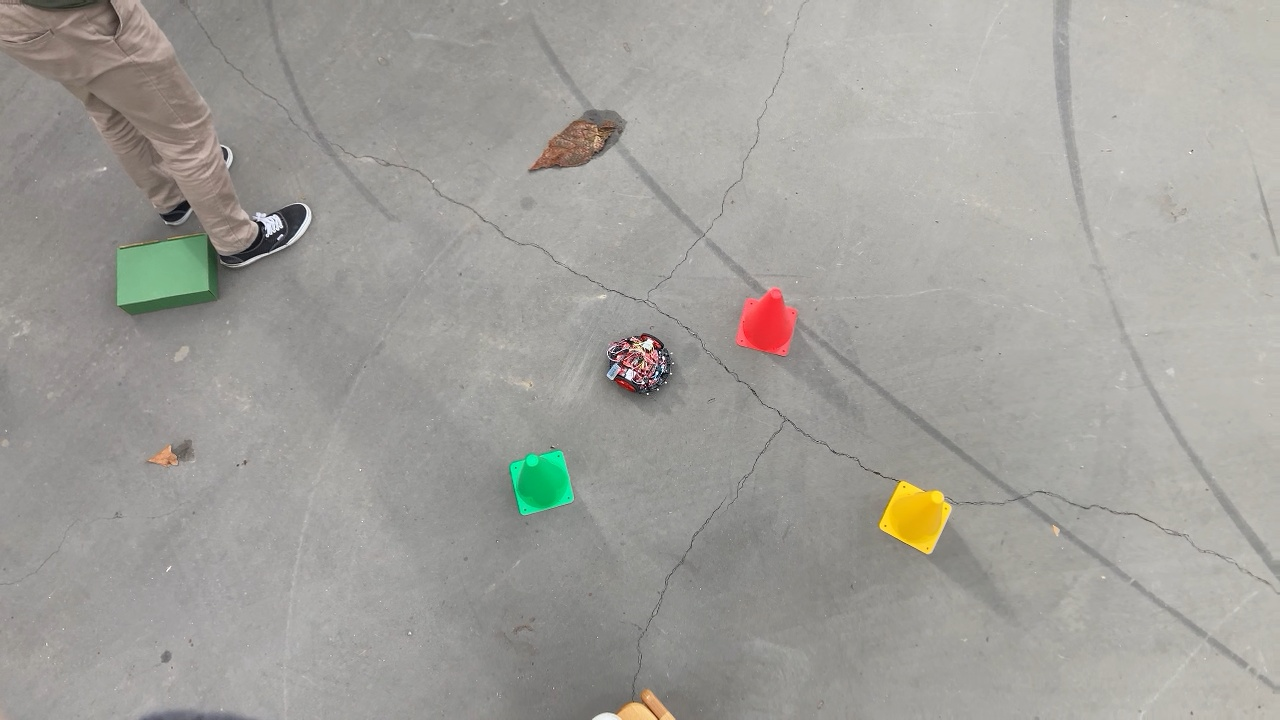green_cone: (503, 448, 577, 514)
red_cone: (734, 290, 802, 361)
robot: (602, 334, 676, 398)
yellow_cone: (876, 475, 953, 557)
